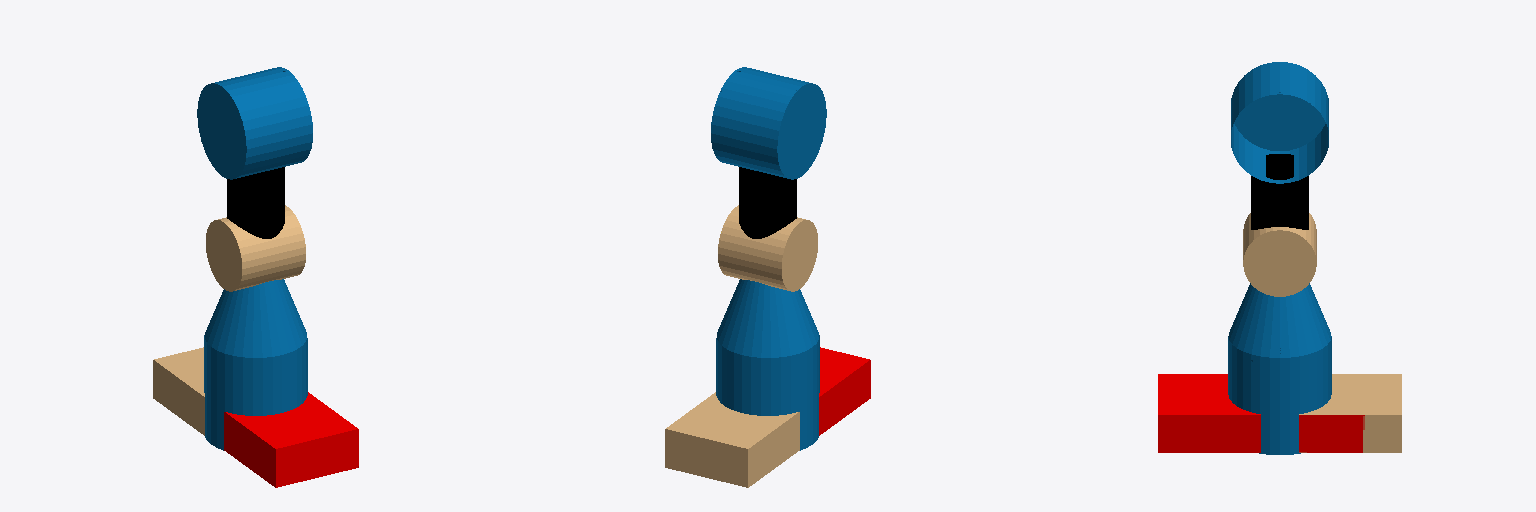
The picture shows the model from 3 angles: view 1: azimuth 30°, elevation 25°; view 2: azimuth 150°, elevation 25°; view 3: azimuth 270°, elevation 25°; orthographic projection.
Parts seen in each view (by area): view 1: Robot.PD; view 2: Robot.PD; view 3: Robot.PD.
Part boxes in pixels (x1,y1,x2,y2): Robot.PD: (153, 67, 358, 487); Robot.PD: (665, 67, 870, 487); Robot.PD: (1158, 62, 1401, 454).
Bounding box in the file's own units: 0.4474 × 1.7 × 1.06.
Materials: 1 (1 with a texture image).